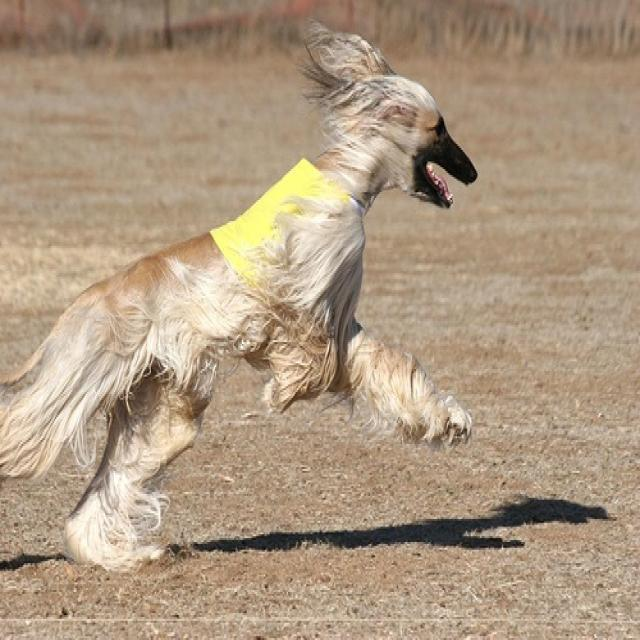dog: (1, 30, 478, 574)
